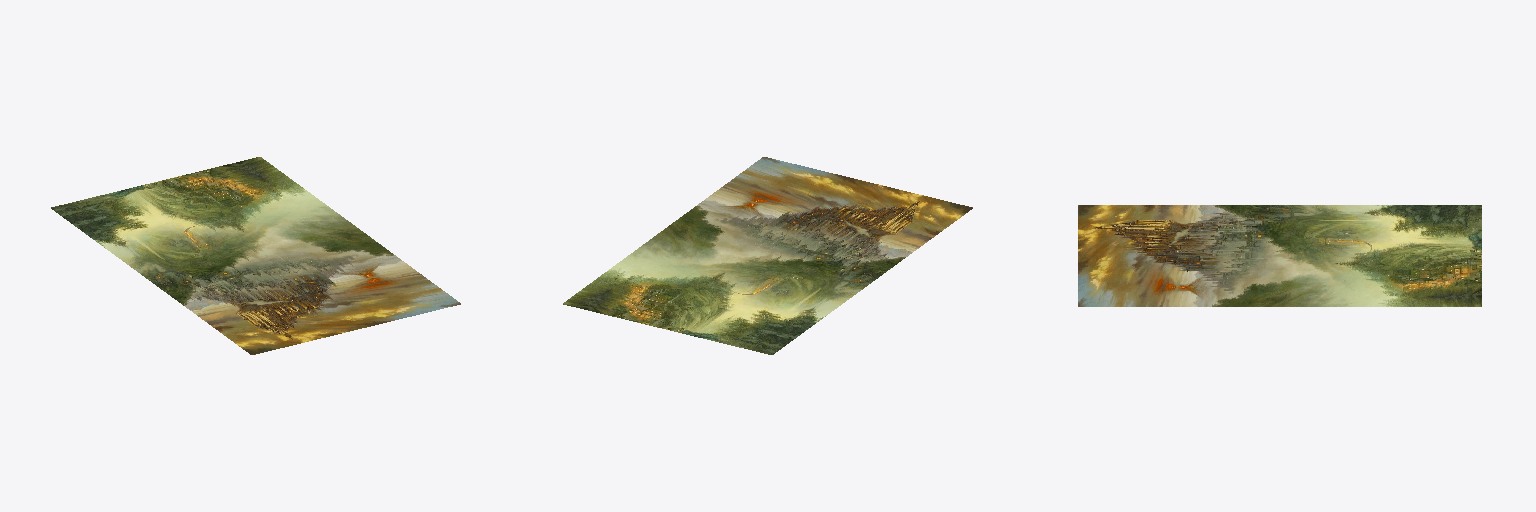
The picture shows the model from 3 angles: view 1: azimuth 30°, elevation 25°; view 2: azimuth 150°, elevation 25°; view 3: azimuth 270°, elevation 25°; orthographic projection.
Visible parts, largest first — view 1: Plane; view 2: Plane; view 3: Plane.
Boxes of the visible parts, x1,y1,x2,y2 form: Plane: [51, 157, 460, 354]; Plane: [563, 157, 972, 354]; Plane: [1078, 205, 1481, 306].
Bounding box in the file's own units: 21.6 × 0 × 35.87.
1 materials, 1 textured.